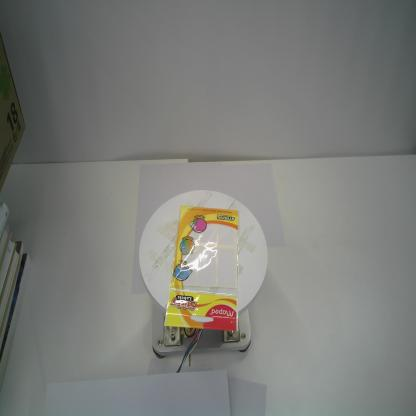Stationery: (163, 205, 239, 333)
